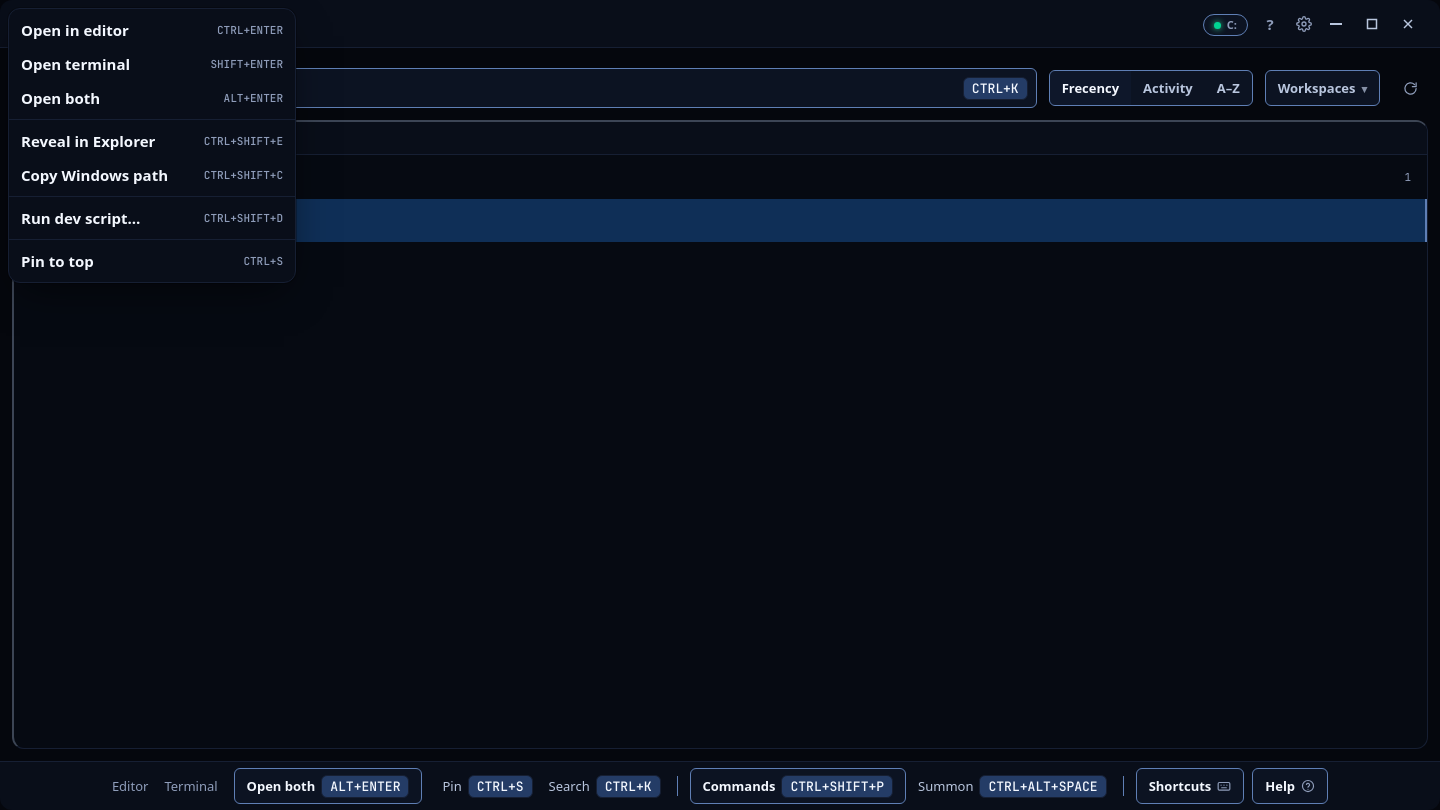
Test case: project menu › launch section › "Open in editor" surfaces the refusal as a toast and opens nothing else
Click the button "Open in editor Ctrl+Enter": (75, 30) [9, 13, 295, 47]
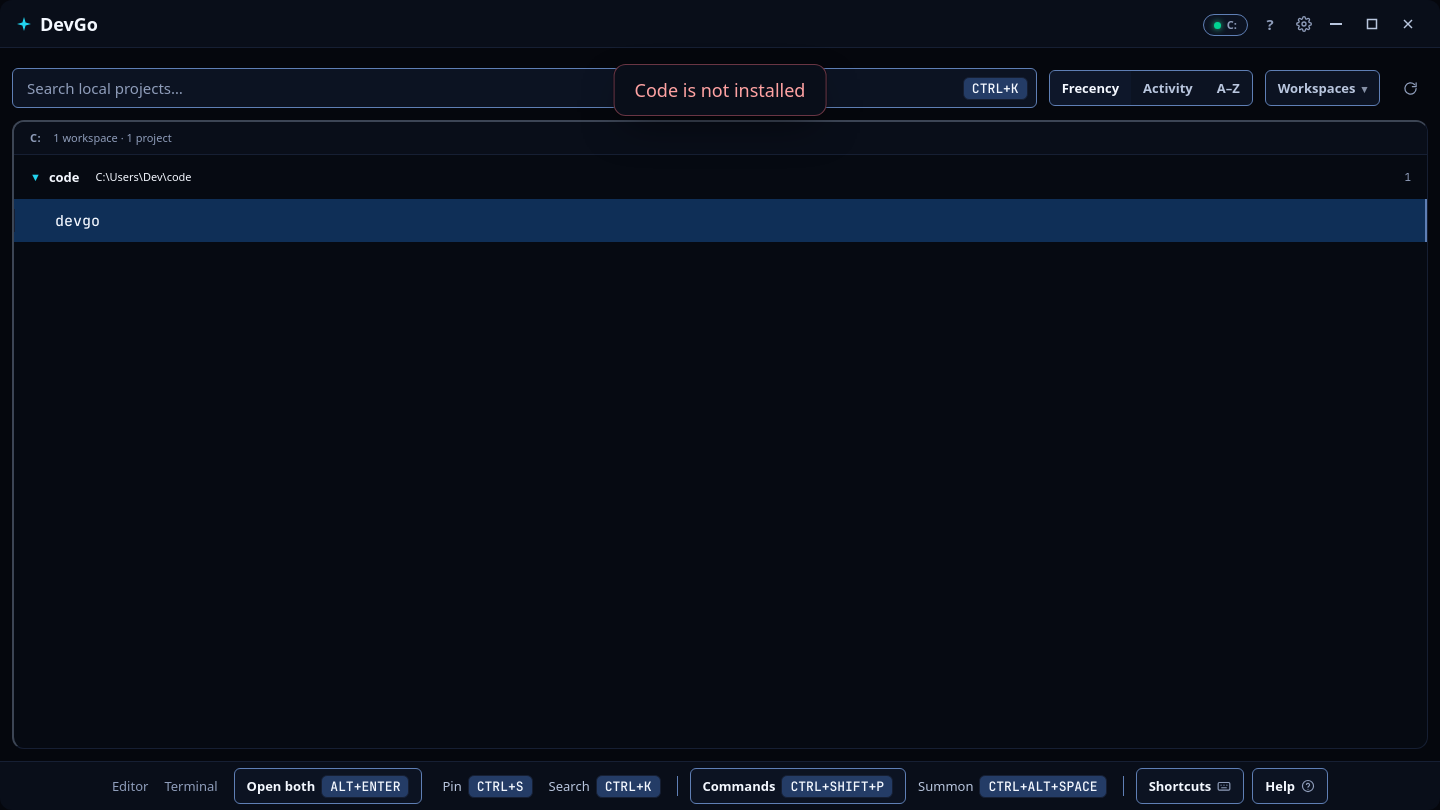
Expected: the text "Code is not installed" is shown, [635, 77, 805, 103]
